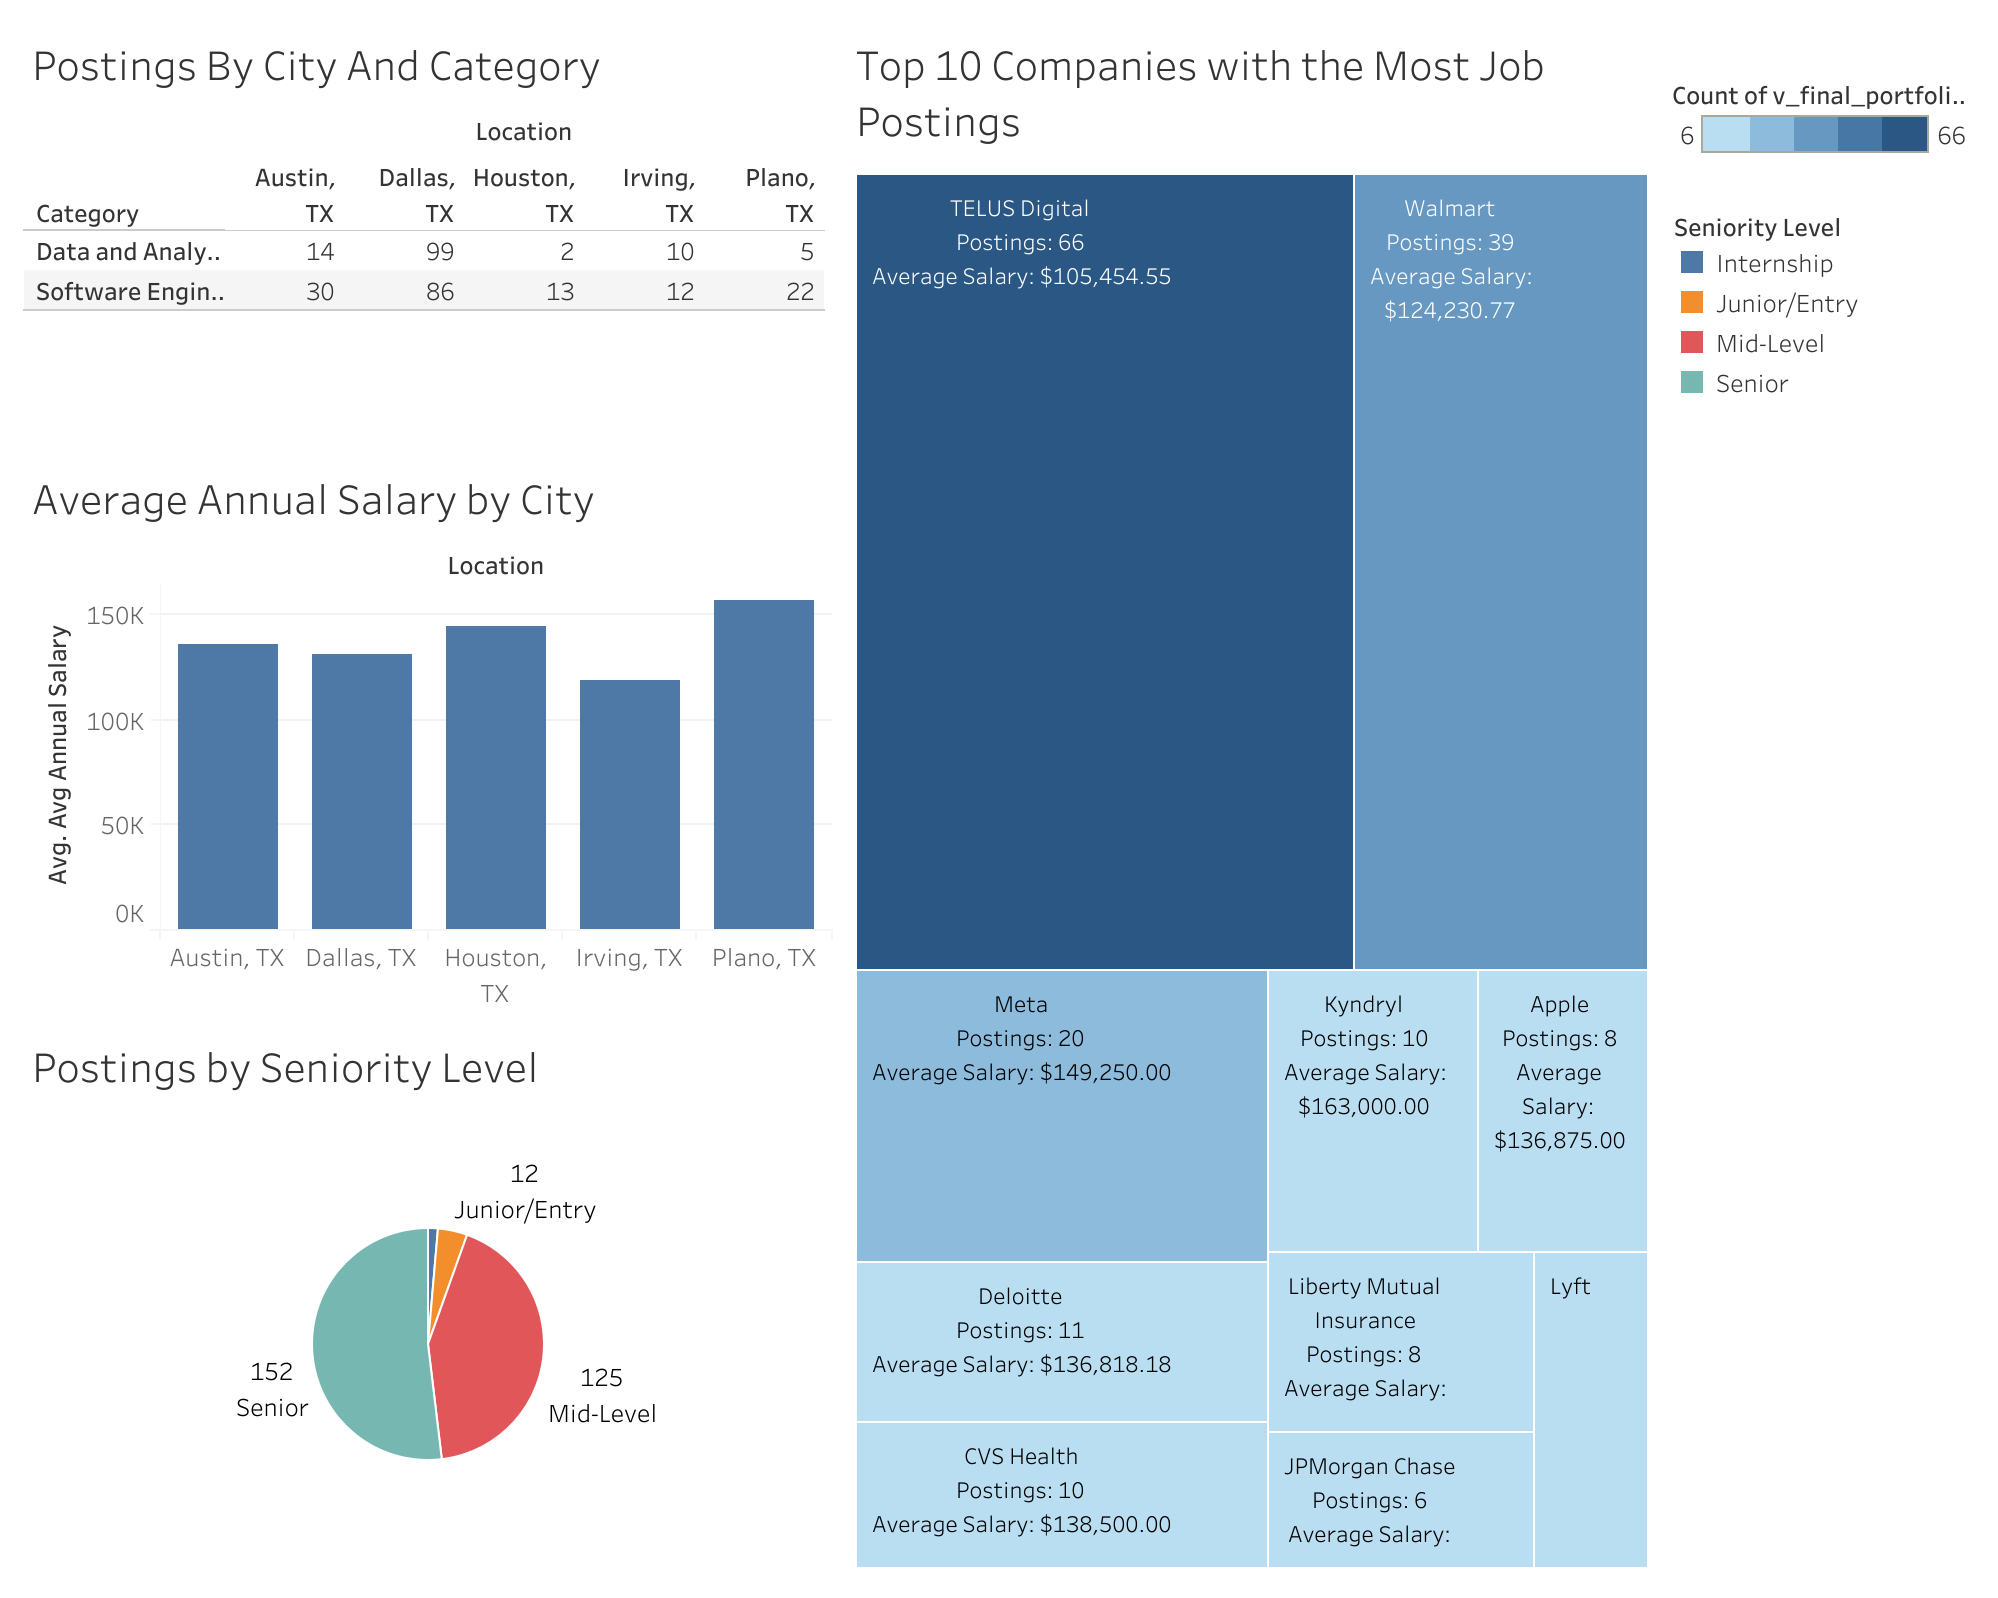

The page's visual inventory and layout, read from the dashboard file:
{"tool":"tableau","page":{"name":"Dashboard 1","canvas":[1000,800],"ordinal":0},"visuals":[{"type":"worksheet","title":"Postings By City And Category","mark":"Automatic","rows":["category"],"cols":["location"],"box":[8,8,412,217]},{"type":"worksheet","title":"Top 10 Companies With The Most Postings","mark":"Automatic","box":[420,8,412,784]},{"type":"legend","title":"Top 10 Companies With The Most Postings","param":"[federated.1lwxiq502wcfke1cs1knw1lszemy].[__tableau_internal_object_id__].[cnt:v","box":[832,8,160,22]},{"type":"legend","title":"Top 10 Companies With The Most Postings","param":"[federated.1lwxiq502wcfke1cs1knw1lszemy].[__tableau_internal_object_id__].[cnt:v","box":[832,30,160,68]},{"type":"legend","title":"Postings by Seniority Level","param":"[federated.1lwxiq502wcfke1cs1knw1lszemy].[none:seniority_level:nk]","box":[832,98,160,107]},{"type":"worksheet","title":"Average Annual Salary By City","mark":"Automatic","rows":["avg_annual_salary"],"cols":["location"],"box":[8,225,412,283.5]},{"type":"worksheet","title":"Postings by Seniority Level","mark":"Pie","box":[8,508.5,412,283.5]}]}

Visuals, with their boxes in screenshot pixels (x1, y1, x2, y2), scaled from the page's 1000x800 canvas onto the 1998x1598 screenshot:
"Postings By City And Category" worksheet: x1=16 y1=16 x2=839 y2=449
"Top 10 Companies With The Most Postings" worksheet: x1=839 y1=16 x2=1662 y2=1582
"Top 10 Companies With The Most Postings" legend: x1=1662 y1=16 x2=1982 y2=60
"Top 10 Companies With The Most Postings" legend: x1=1662 y1=60 x2=1982 y2=196
"Postings by Seniority Level" legend: x1=1662 y1=196 x2=1982 y2=409
"Average Annual Salary By City" worksheet: x1=16 y1=449 x2=839 y2=1016
"Postings by Seniority Level" worksheet (Pie marks): x1=16 y1=1016 x2=839 y2=1582
